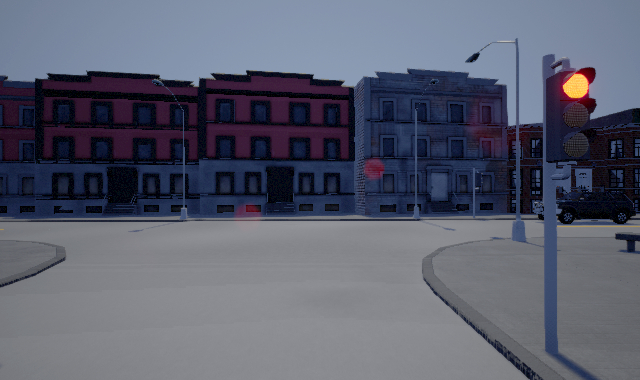traffic_light: (545, 66, 597, 162)
vehicle: (533, 191, 636, 223)
